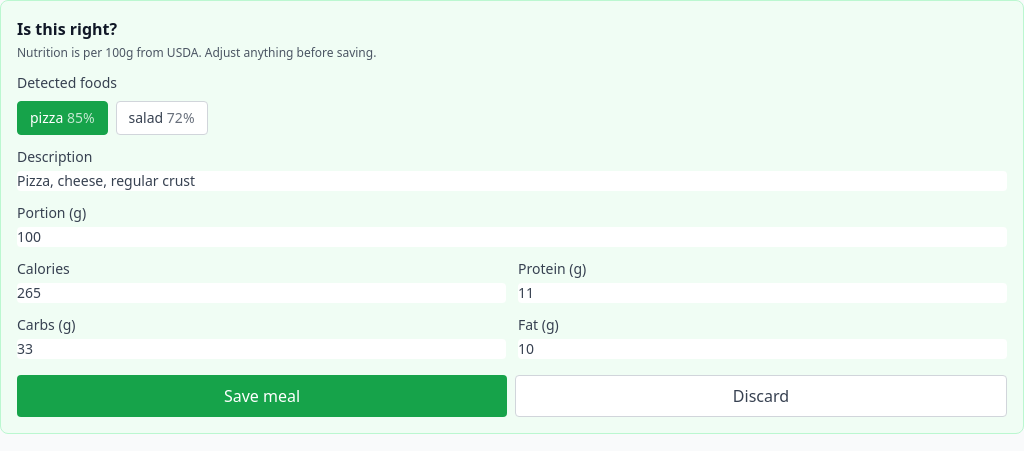
Test: MealReview › lets the user switch between detected foods, refilling the form
This screenshot has width=1024, height=451.
Click the button "salad 72%": (162, 118) [116,101,208,135]
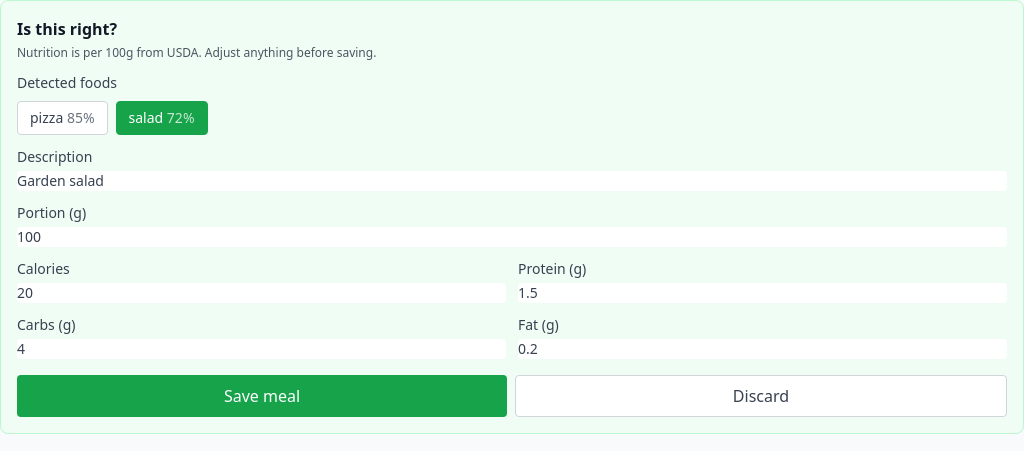
Expected: the field labelled "Description" holds "Garden salad", [17,171,1007,191]
Expected: the number field labelled "Calories" holds "20", [17,283,506,303]
